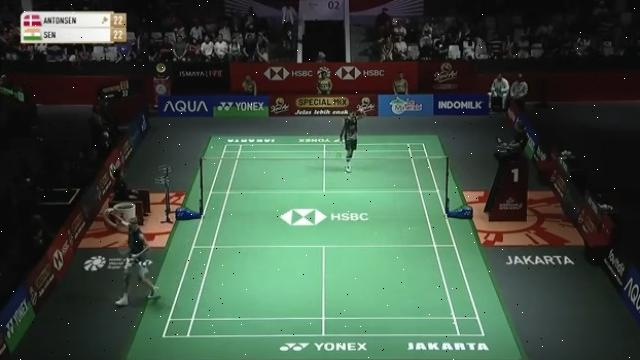Shuttlecock: (207, 141, 216, 153)
